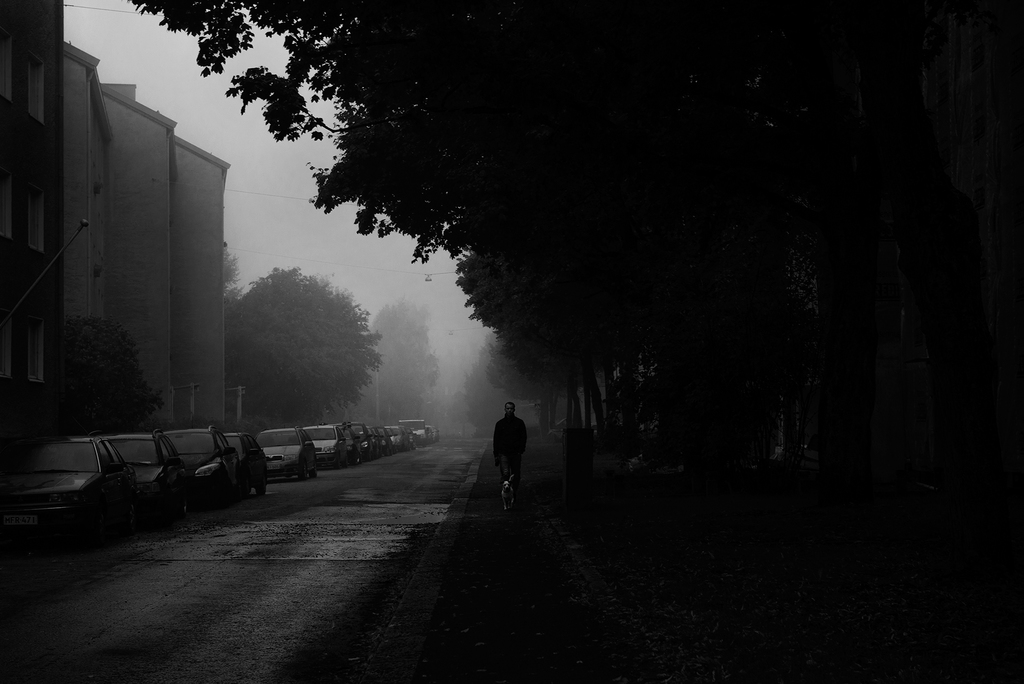Car: (0, 436, 135, 552), (123, 425, 202, 530), (173, 424, 244, 537), (247, 418, 319, 480), (300, 423, 366, 470), (223, 428, 258, 514), (389, 427, 423, 450), (374, 427, 396, 457)
